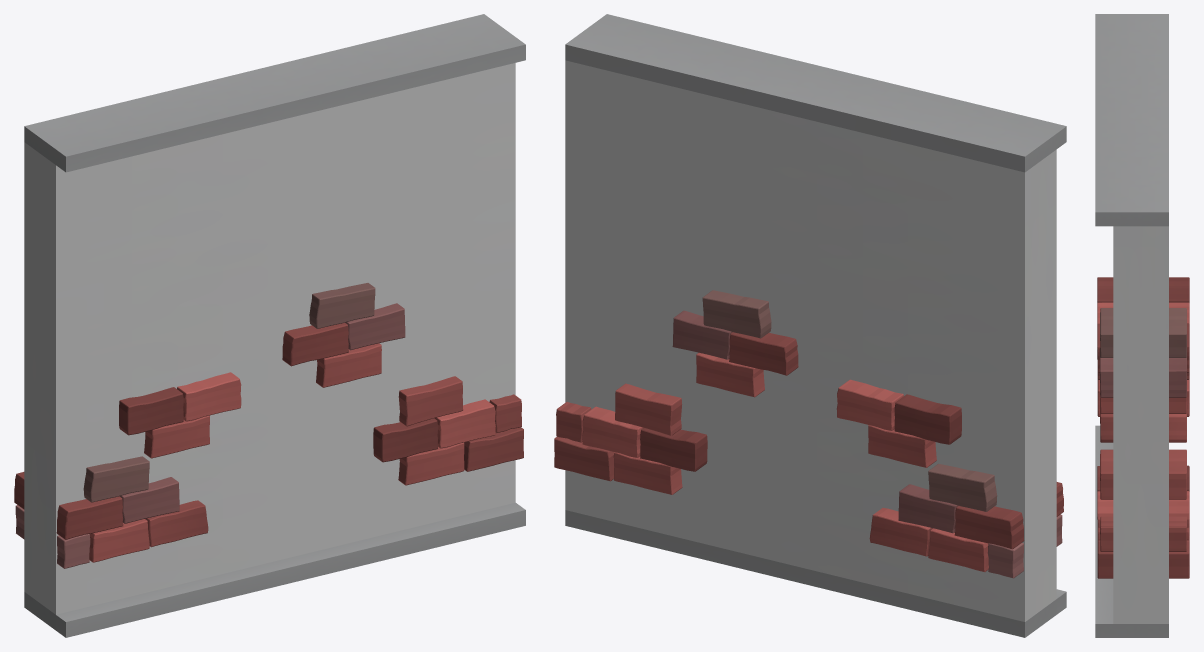
Rendered from wall_1_brick.fbx.
3 renders of one model, left to right at view 1: azimuth 30°, elevation 25°; view 2: azimuth 150°, elevation 25°; view 3: azimuth 270°, elevation 25°, orthographic. The views are drawn at different scales.
Parts seen in each view (by area): view 1: wall_1_brick, brick11, brick7, brick19, brick13, brick3, brick5, brick2, brick17, brick15, brick4, brick8 (+8 smaller); view 2: wall_1_brick, brick11, brick7, brick19, brick3, brick13, brick5, brick2, brick17, brick15, brick4, brick6 (+8 smaller); view 3: wall_1_brick, brick19, brick3, brick1, brick18, brick14, brick7, brick8, brick15, brick4, brick5, brick2 (+2 smaller).
Part boxes in pixels (x1,y1,x2,y2): wall_1_brick: (24,14,525,637); brick11: (14,472,123,539); brick7: (119,387,183,435); brick19: (398,376,463,426); brick13: (83,456,149,502); brick3: (309,283,375,328); brick5: (177,372,241,421); brick2: (282,322,348,366); brick17: (373,418,437,462); brick15: (434,399,495,448); brick4: (316,343,381,387); brick8: (145,500,208,547); wall_1_brick: (565,14,1066,637); brick11: (954,482,1063,549); brick7: (894,394,961,444); brick19: (615,383,682,435); brick3: (702,290,771,338); brick13: (928,463,997,511); brick5: (836,379,903,430); brick2: (729,332,798,375); brick17: (640,428,707,471); brick15: (582,406,643,457); brick4: (696,352,764,397); brick6: (868,425,936,467); wall_1_brick: (1095,14,1168,637); brick19: (1100,449,1186,499); brick3: (1100,308,1186,357); brick1: (1099,348,1186,397); brick18: (1100,516,1186,551); brick14: (1097,539,1189,578); brick7: (1097,277,1189,302); brick8: (1100,398,1186,442); brick15: (1097,491,1189,540); brick4: (1100,383,1186,413); brick5: (1097,302,1189,323); brick2: (1097,323,1189,372).
Size of the model in its own units: 2 by 2 by 0.4014.
